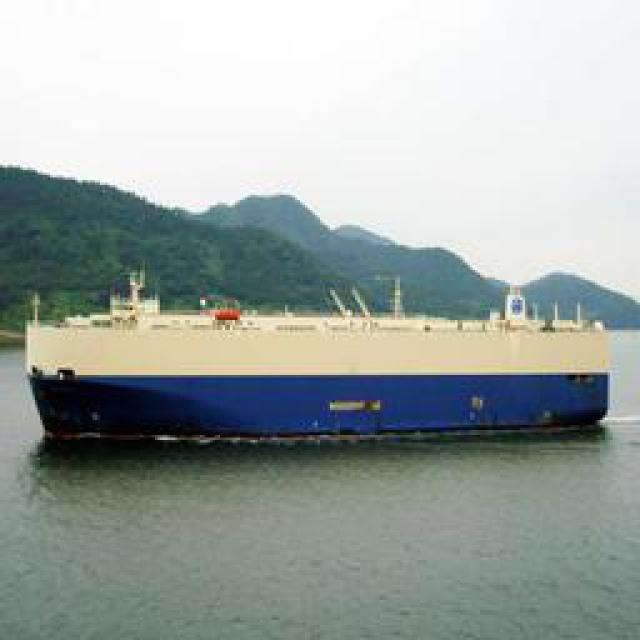Ship: (20, 292, 625, 442)
